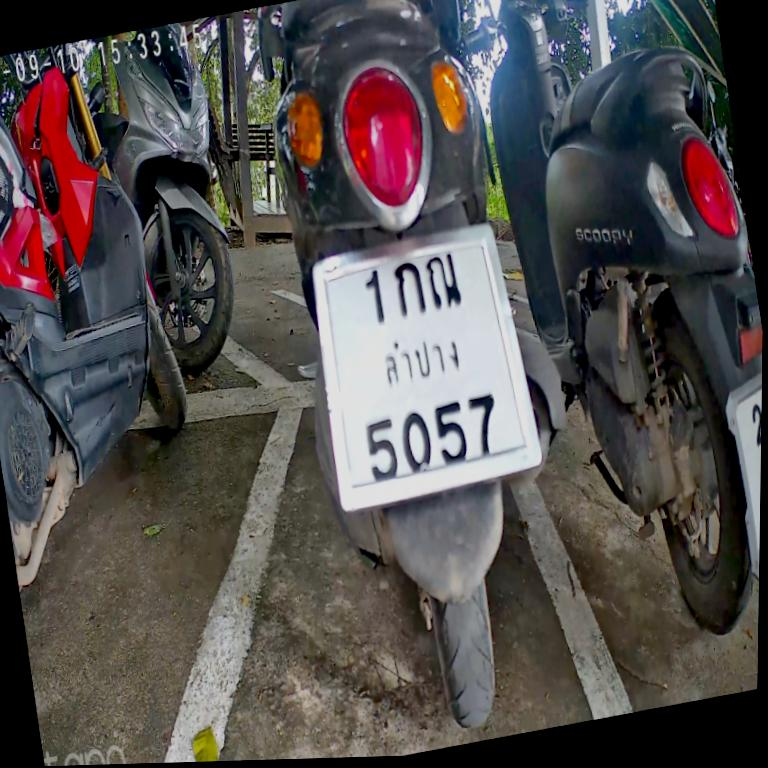license plate: (297, 201, 555, 525), (706, 344, 763, 574)
